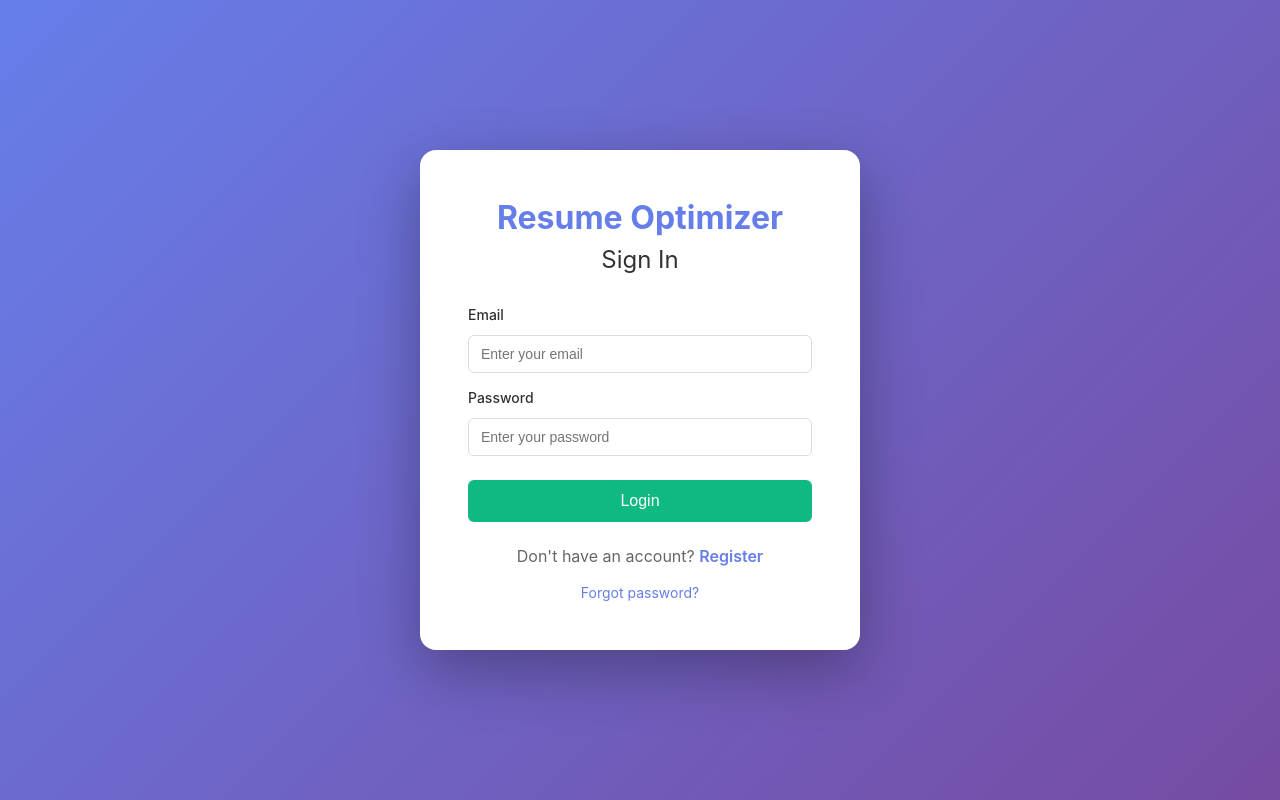
Login › toggles between Sign In and Create Account modes
Expected: the heading "Sign In" is shown, [601,245,679,274]
# Click "Register" toggle link
Click the text "Register" at (731, 556), box [699,546,763,566]
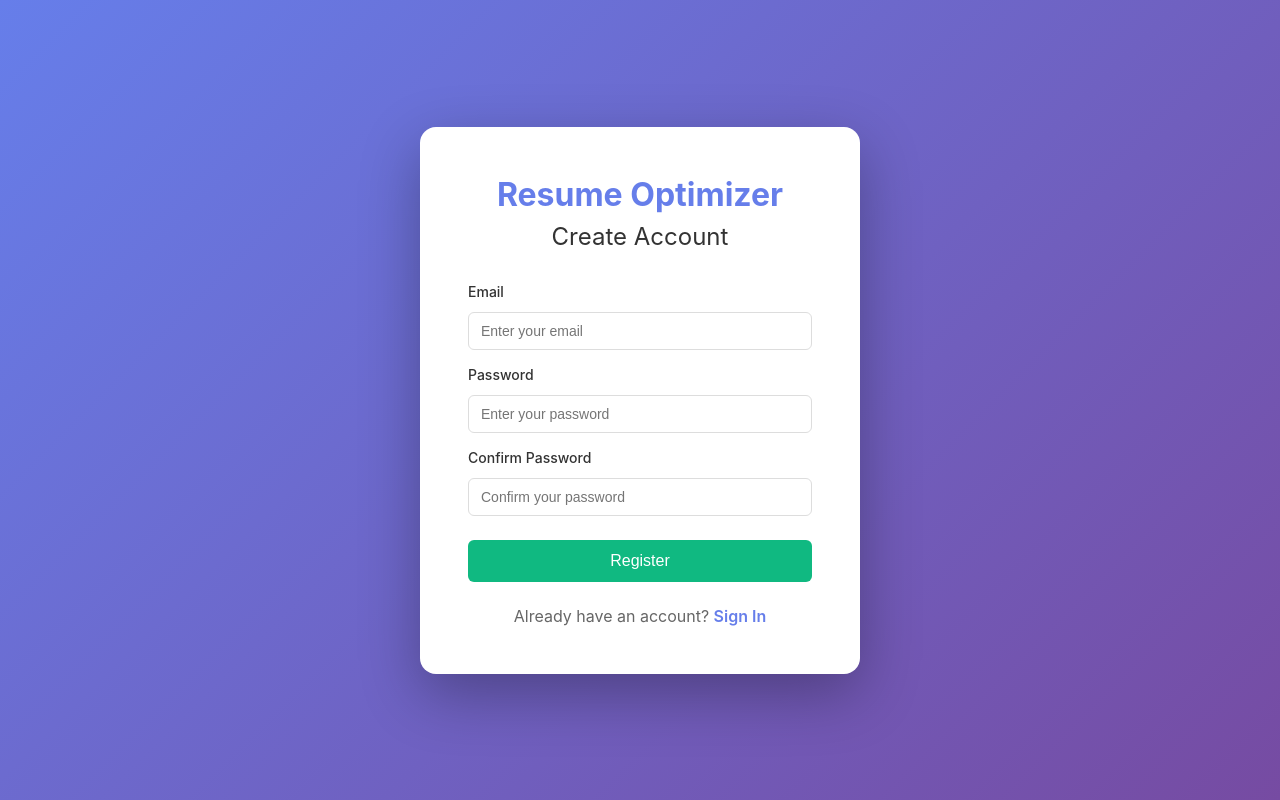
Now the heading "Create Account" is shown, box [552,222,728,250]
Now the password field with placeholder "Confirm your password" is shown, box [468,478,812,516]
